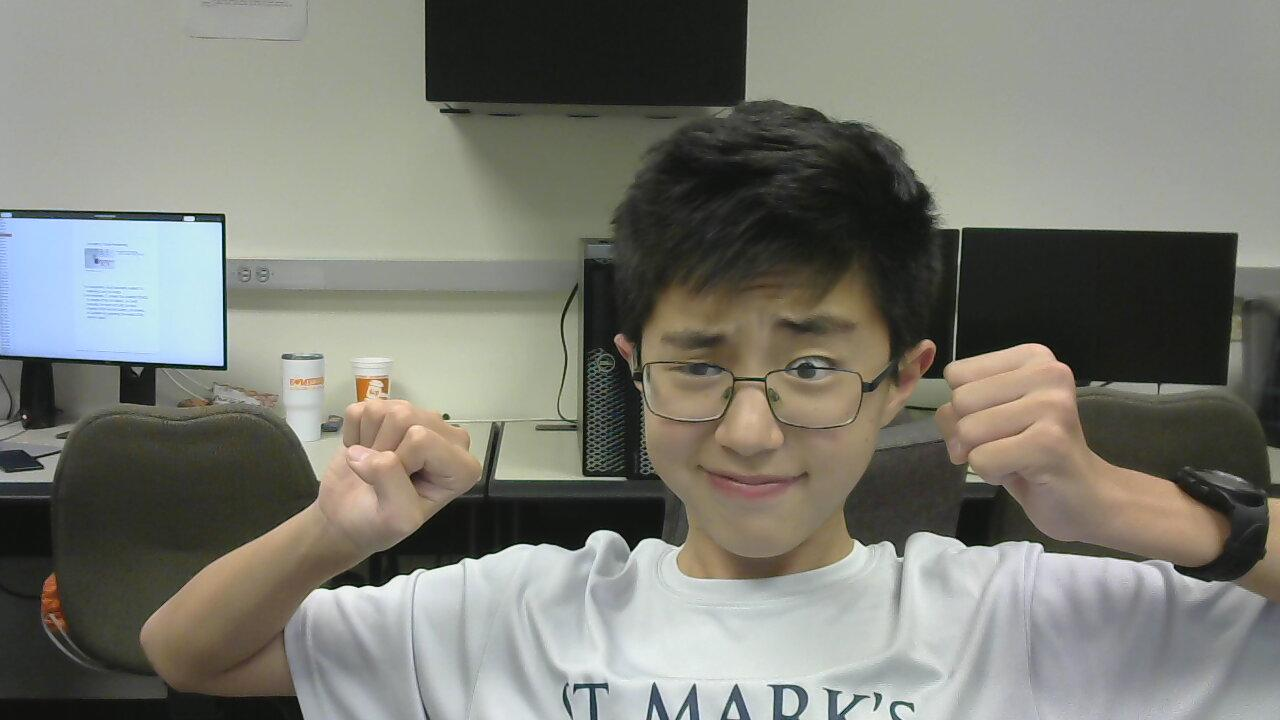fist: (896, 339, 1152, 538), (308, 387, 501, 571)
